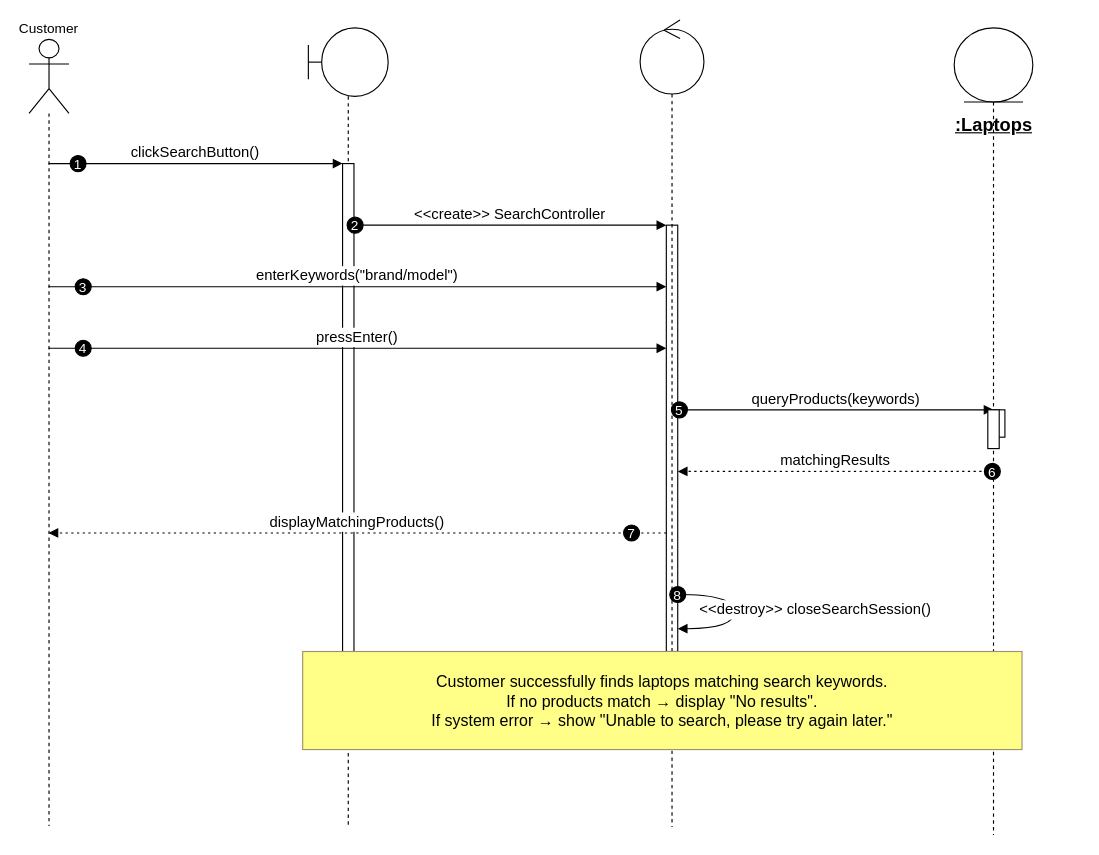
Image size: 1099x855. Some labels were removed from this diagram. The box of each missing label's shape, as (x1, y1, x2, y2) in pixels:
:HomeView: (307, 27, 388, 826)
:SearchController: (639, 19, 704, 827)
